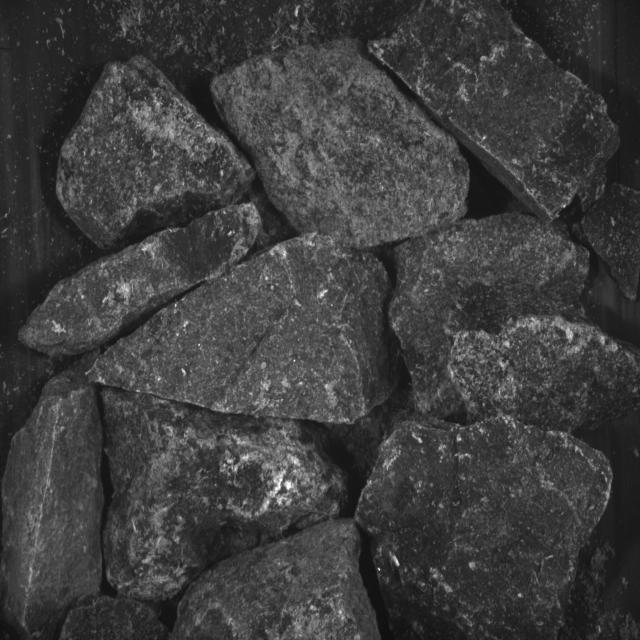Stones: (90, 235, 395, 423), (357, 417, 612, 640), (370, 1, 620, 222), (212, 41, 470, 249), (104, 390, 349, 602), (390, 215, 590, 420), (57, 56, 256, 249), (20, 203, 262, 357), (4, 371, 105, 639), (174, 520, 381, 640), (450, 316, 640, 433), (582, 185, 640, 302), (61, 597, 169, 640)
